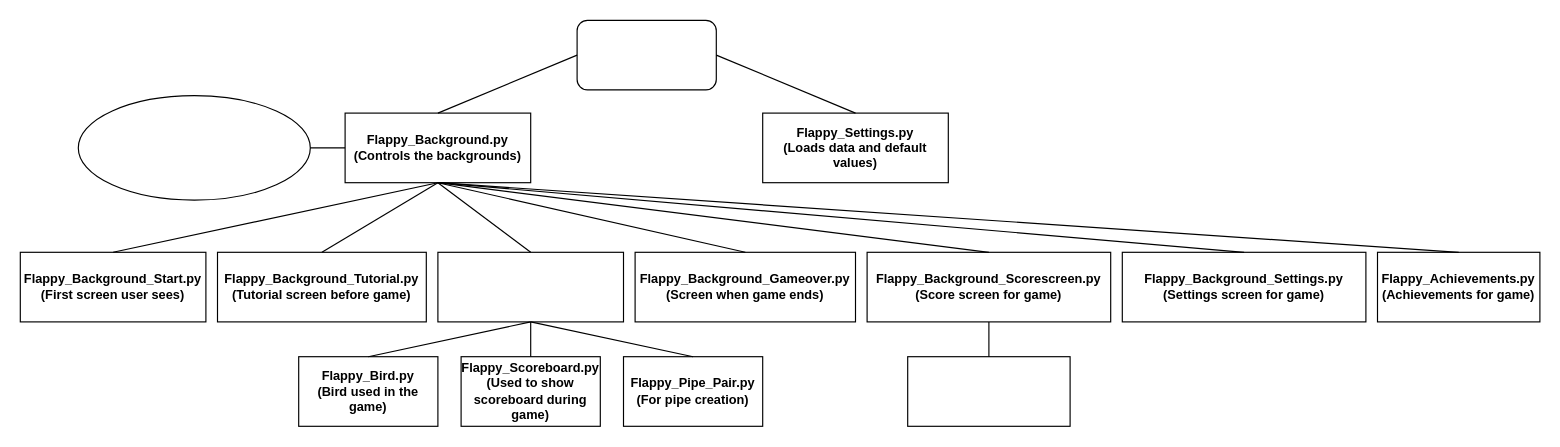
Image size: 1560x447. Some labels were removed from this diagram. Each missing label, with the centre of its shape:
Flappy_Background_Game.py (Screen for when game runs): [530,286]
Flappy_Base_and_Background.py (Base and Background pictures): [193,147]
Flappy_Main.py (Has main loop): [646,54]
Flappy_Region_Info.py (Used to create score screen region): [988,391]
